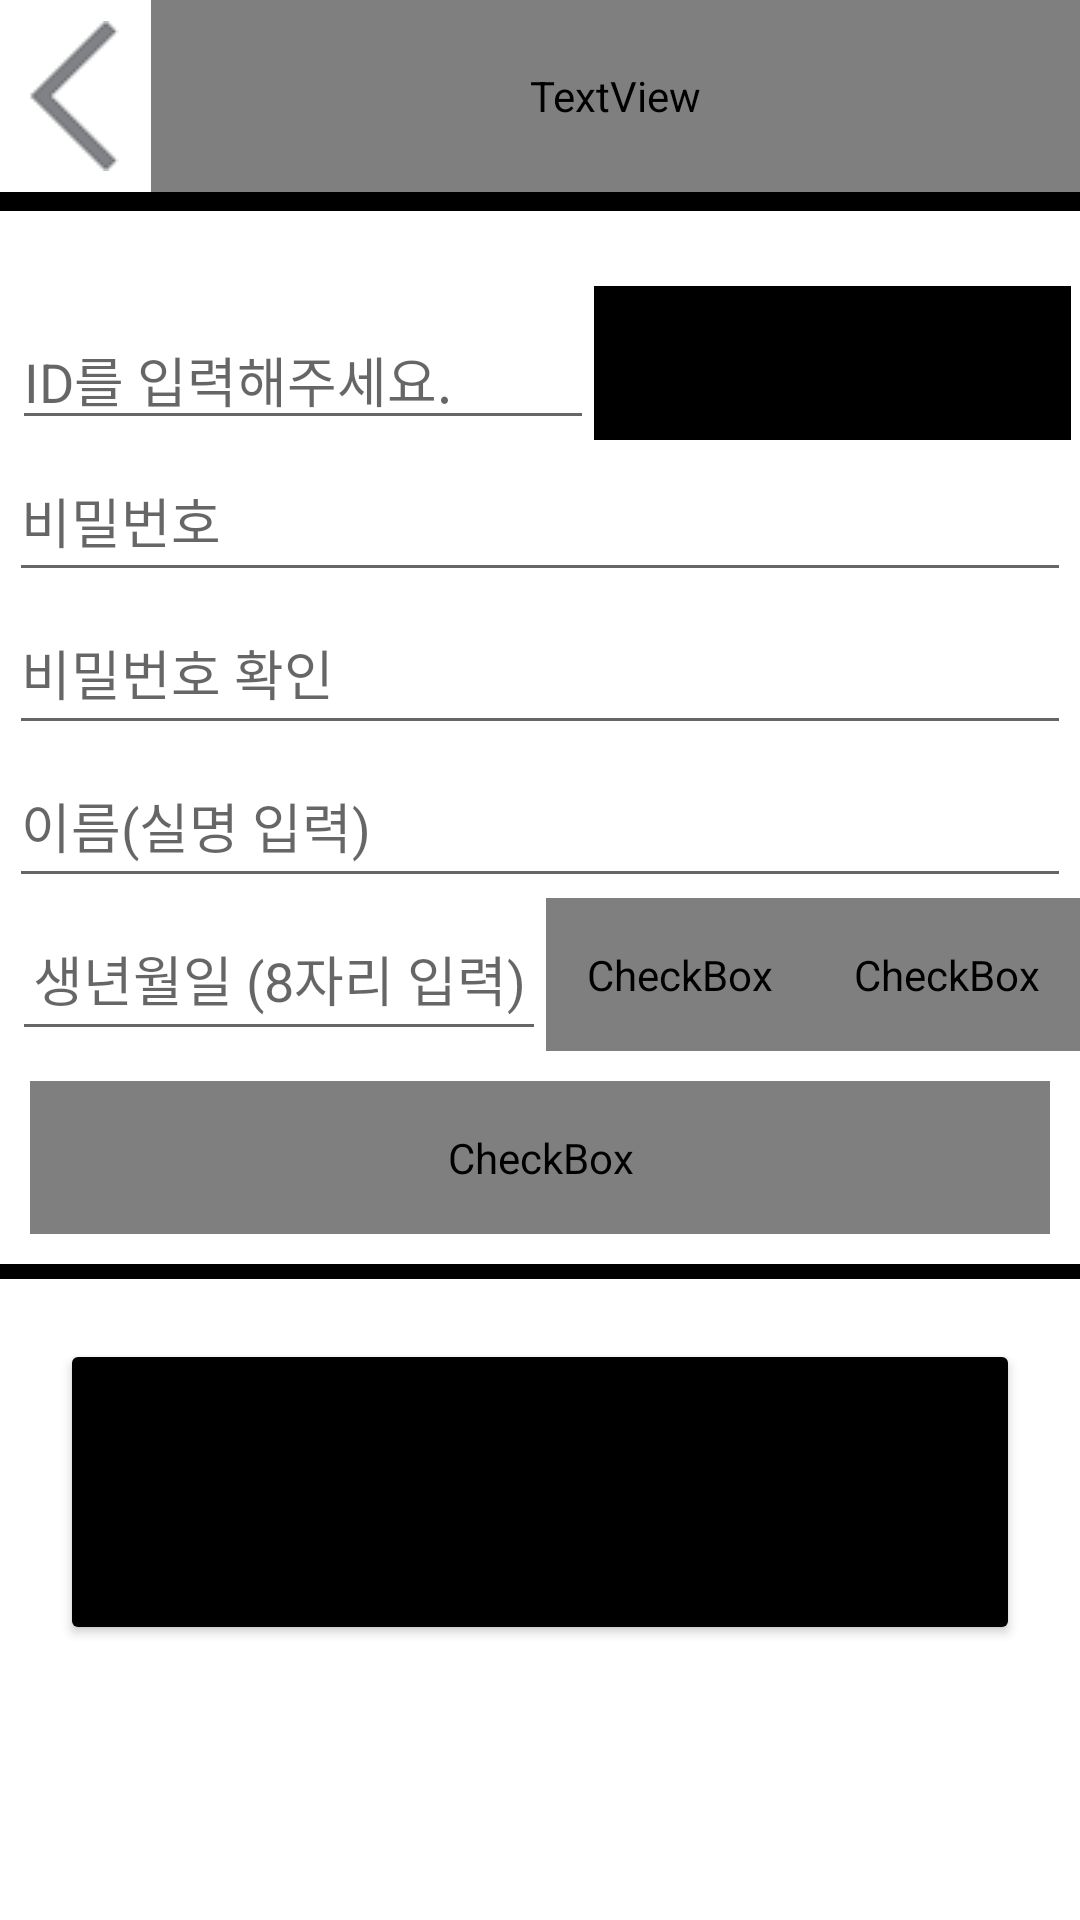

Point at icon controls on the screen. Image size 1080px×1920px, points as point (x, y).
back space: point (75, 96)
